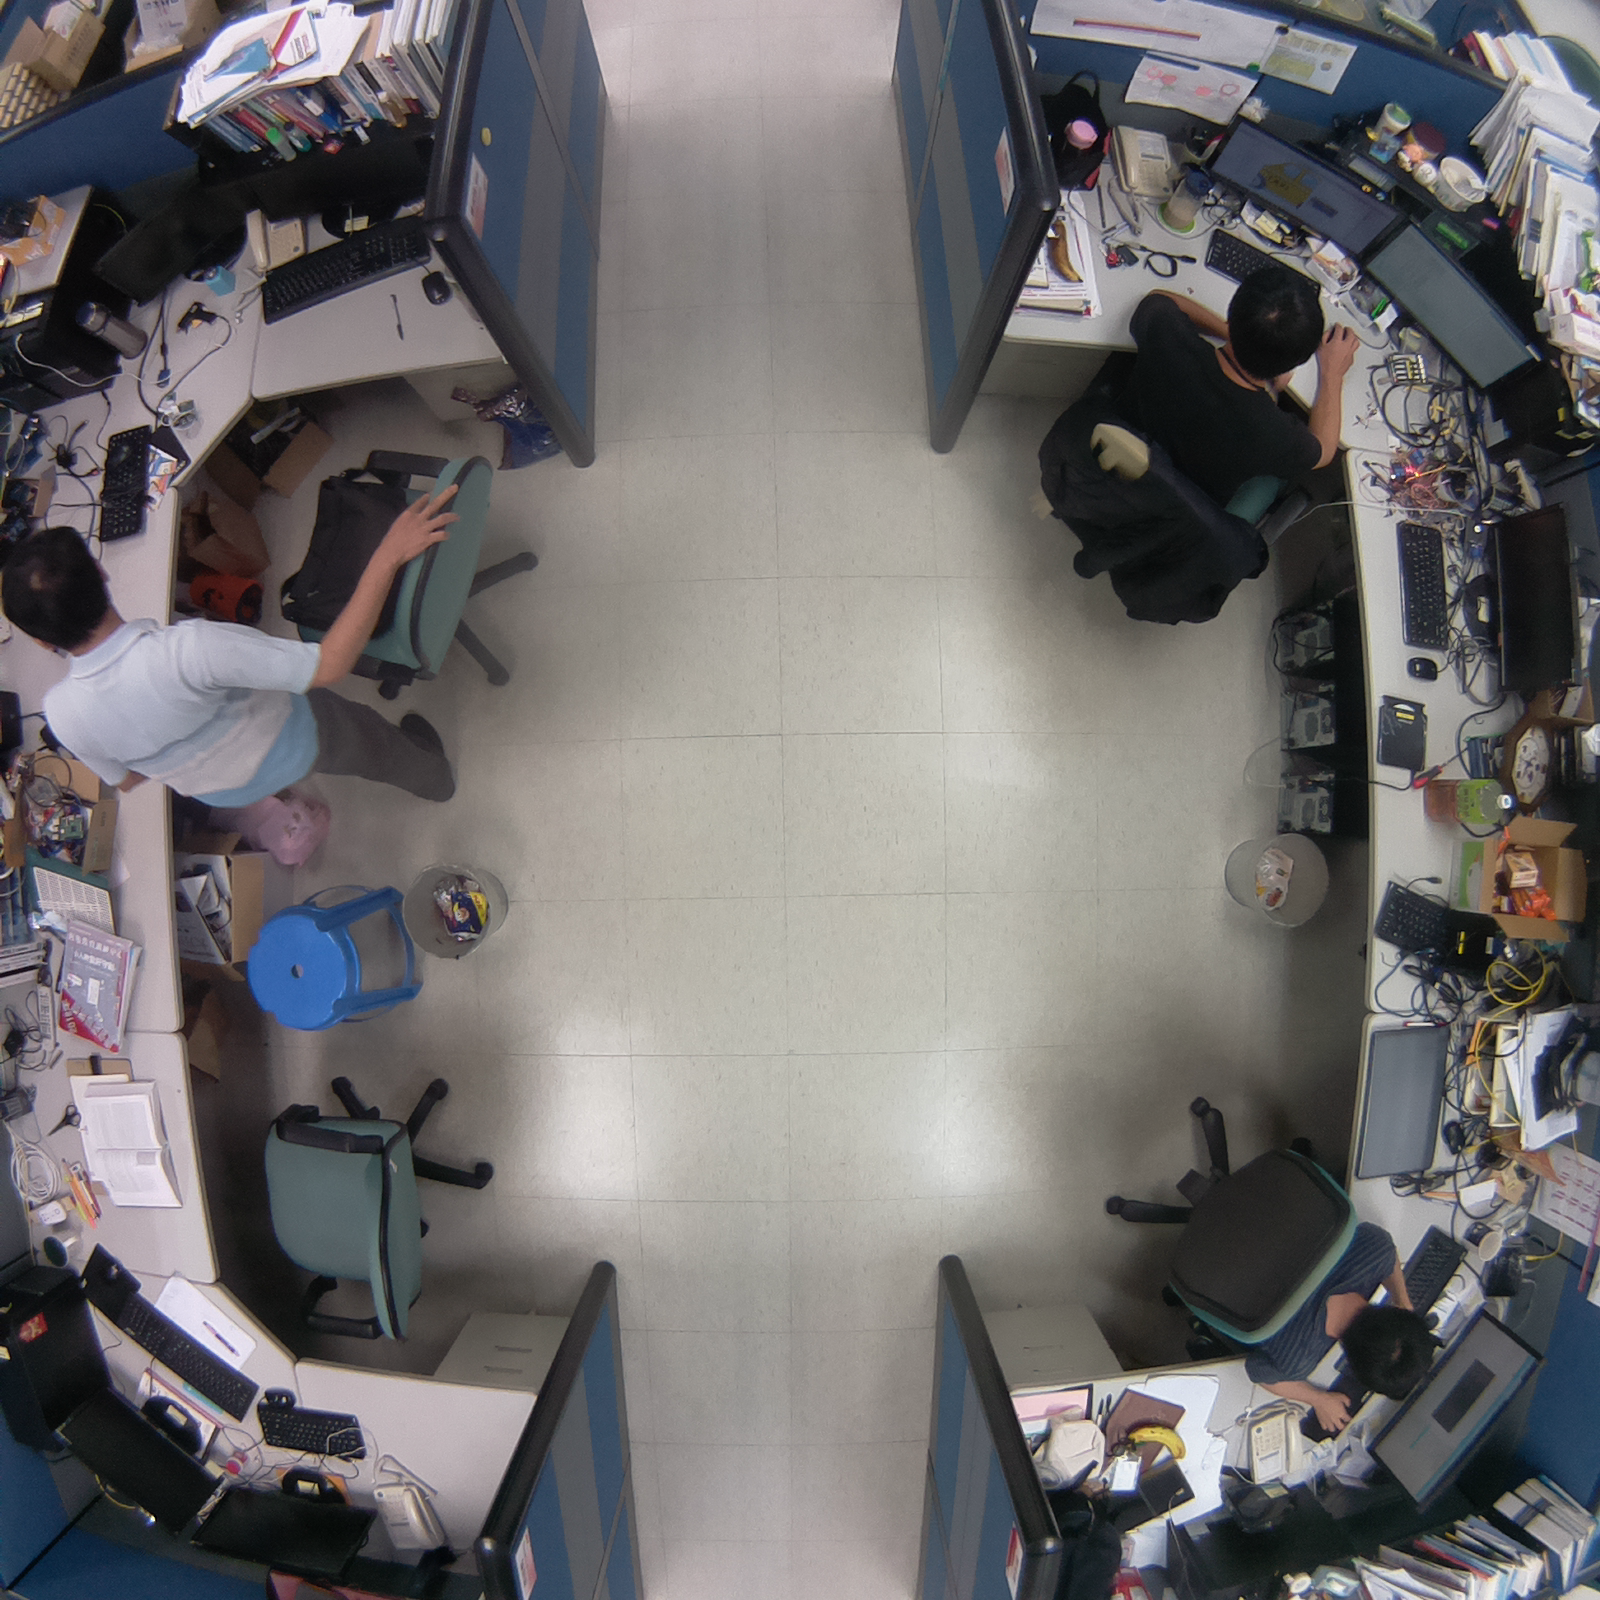chair: (237, 1055, 524, 1363), (268, 434, 568, 706)
head: (1, 516, 126, 655), (1217, 256, 1337, 385), (1334, 1289, 1446, 1411)
sitting: (1017, 240, 1361, 640), (1096, 1083, 1437, 1445), (1231, 1207, 1451, 1449)
standing: (1, 434, 473, 829)
